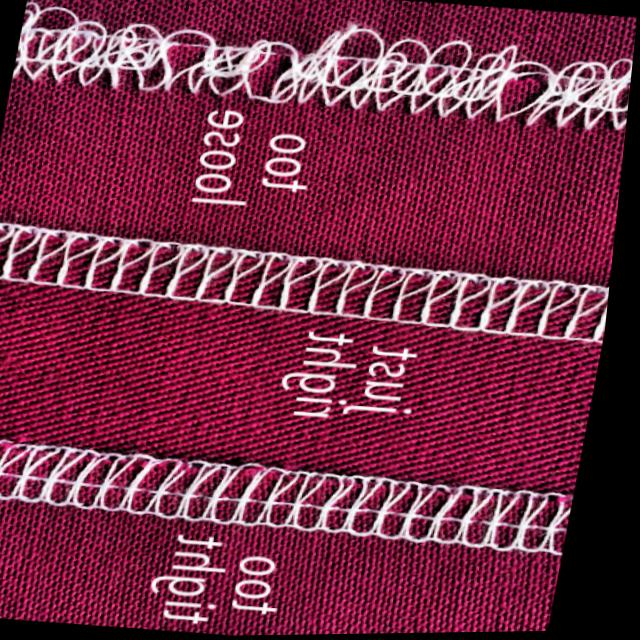Stitch: (43, 0, 633, 138)
